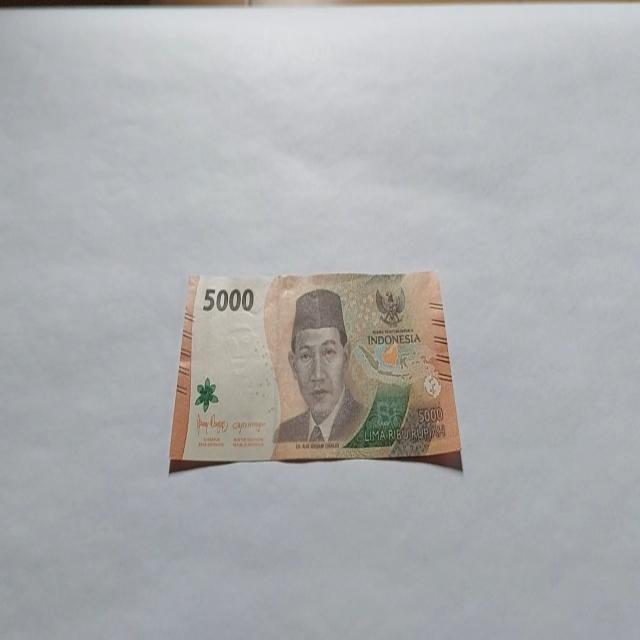lima ribu rupiah: (168, 268, 463, 474), (272, 287, 370, 446)
